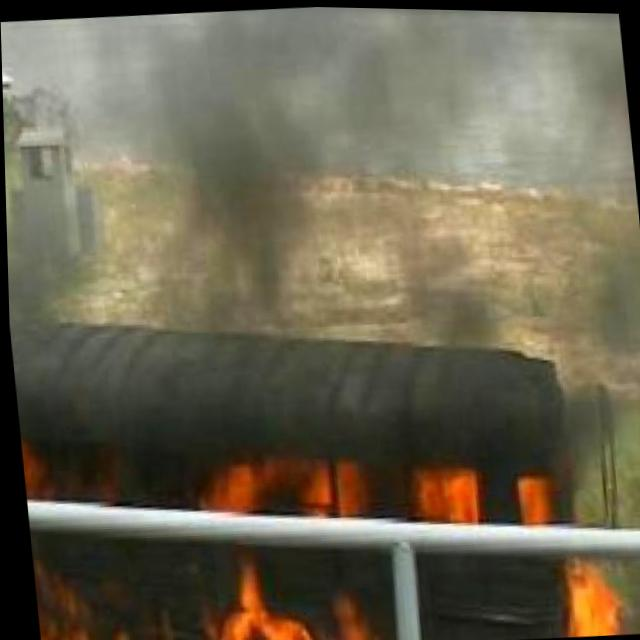Fire: (30, 553, 386, 640), (324, 449, 548, 526), (547, 556, 640, 636), (201, 455, 314, 518)
